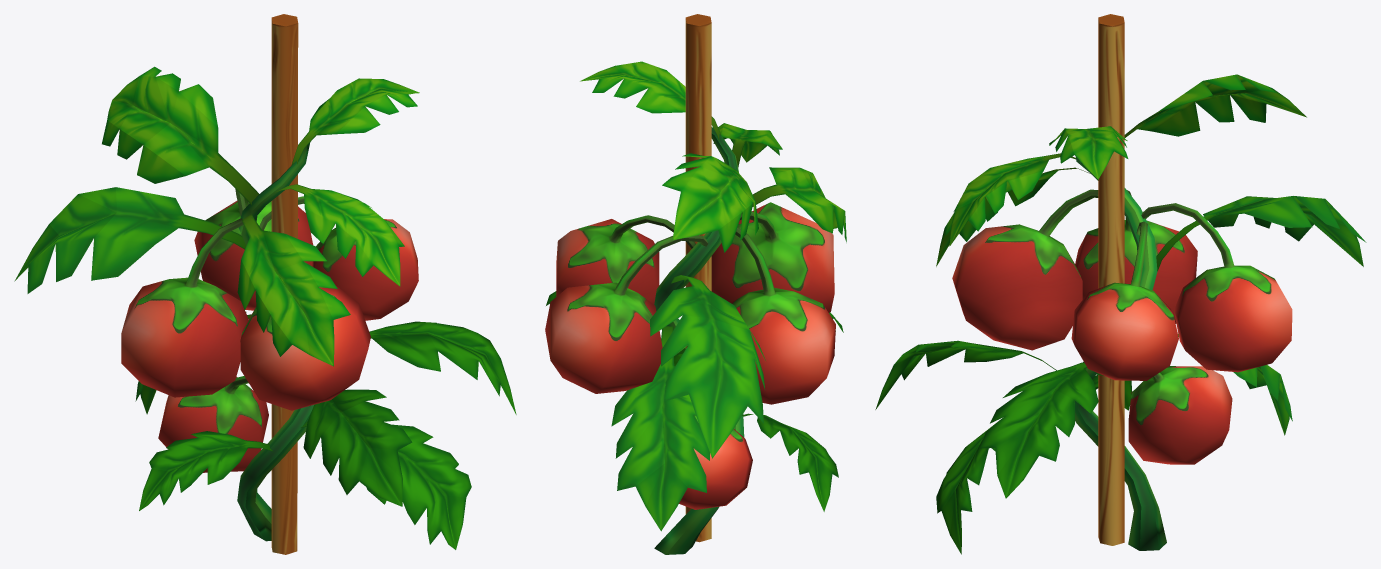
Rendered from tomato.fbx.
3 renders of one model, left to right at view 1: azimuth 30°, elevation 25°; view 2: azimuth 150°, elevation 25°; view 3: azimuth 270°, elevation 25°, orthographic. The views are drawn at different scales.
Visible parts, largest first — view 1: SM_Tomato_Lv3; view 2: SM_Tomato_Lv3; view 3: SM_Tomato_Lv3.
Part boxes in pixels (left/top/right/bottom): SM_Tomato_Lv3: left=14, top=14, right=516, bottom=554; SM_Tomato_Lv3: left=545, top=14, right=846, bottom=554; SM_Tomato_Lv3: left=875, top=14, right=1366, bottom=554.
Bounding box in the file's own units: 32.62 × 47.48 × 40.68.
